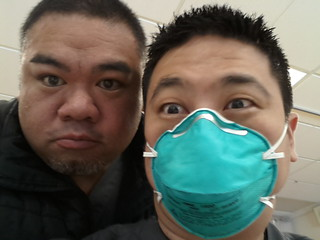bare: (16, 84, 137, 175)
n95: (150, 108, 282, 240)
